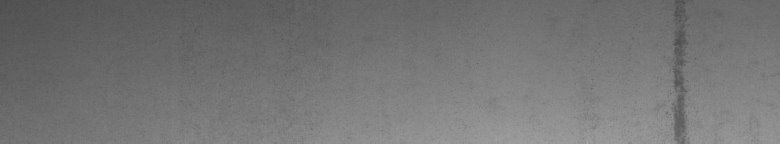hd: (666, 7, 691, 136)
